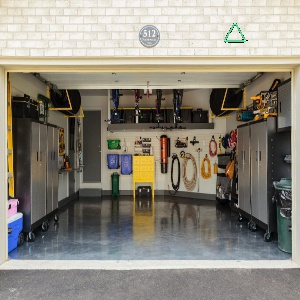triangle: (222, 20, 251, 46)
